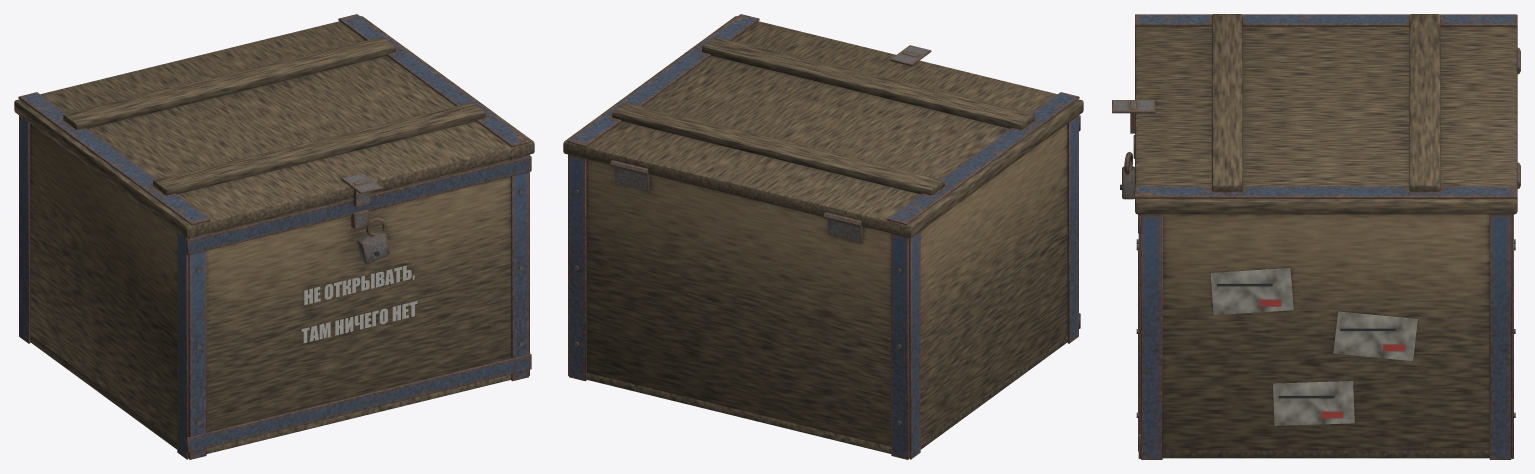
The model's file is g67_box_nothing.glb.
3 renders of one model, left to right at view 1: azimuth 30°, elevation 25°; view 2: azimuth 150°, elevation 25°; view 3: azimuth 270°, elevation 25°, orthographic. The views are drawn at different scales.
Visible parts, largest first — view 1: lid, wall_f, wall_l, band_b_f, band_t_f, ang_a, ang_a.002, bottom, ang_b.001, ang_b, st2, st1 (+1 smaller); view 2: lid, wall_b, wall_l, ang_a.001, ang_a.003, bottom, ang_b.001, ang_b, hinge, hinge.001; view 3: lid, wall_r, ang_b.003, ang_b.002, lab2, lab1, lab0, bottom, ang_a.003, ang_a.002.
Boxes of the visible parts, x1=… form: lid: x1=14, y1=14, x2=534, y2=237; wall_f: x1=188, y1=159, x2=511, y2=436; wall_l: x1=30, y1=124, x2=177, y2=449; band_b_f: x1=186, y1=353, x2=531, y2=452; band_t_f: x1=186, y1=155, x2=531, y2=254; ang_a: x1=189, y1=233, x2=206, y2=459; ang_a.002: x1=511, y1=155, x2=528, y2=381; bottom: x1=30, y1=335, x2=511, y2=457; ang_b.001: x1=19, y1=115, x2=30, y2=343; ang_b: x1=177, y1=231, x2=188, y2=459; st2: x1=301, y1=301, x2=417, y2=343; st1: x1=304, y1=265, x2=414, y2=304; lid: x1=563, y1=14, x2=1083, y2=237; wall_b: x1=586, y1=159, x2=909, y2=450; wall_l: x1=920, y1=124, x2=1067, y2=449; ang_a.001: x1=891, y1=233, x2=908, y2=459; ang_a.003: x1=569, y1=155, x2=586, y2=381; bottom: x1=586, y1=335, x2=1067, y2=457; ang_b.001: x1=909, y1=231, x2=920, y2=459; ang_b: x1=1067, y1=115, x2=1078, y2=343; hinge: x1=827, y1=219, x2=862, y2=243; hinge.001: x1=614, y1=167, x2=649, y2=191; lid: x1=1112, y1=14, x2=1517, y2=214; wall_r: x1=1162, y1=214, x2=1489, y2=458; ang_b.003: x1=1489, y1=214, x2=1511, y2=459; ang_b.002: x1=1141, y1=214, x2=1162, y2=459; lab2: x1=1273, y1=381, x2=1354, y2=425; lab1: x1=1333, y1=311, x2=1417, y2=360; lab0: x1=1210, y1=268, x2=1293, y2=315; bottom: x1=1162, y1=450, x2=1489, y2=457; ang_a.003: x1=1511, y1=214, x2=1513, y2=458; ang_a.002: x1=1138, y1=214, x2=1140, y2=458.
Size of the model in its own units: 0.72 by 0.48 by 0.6625.
Materials: 1 (1 with a texture image).
